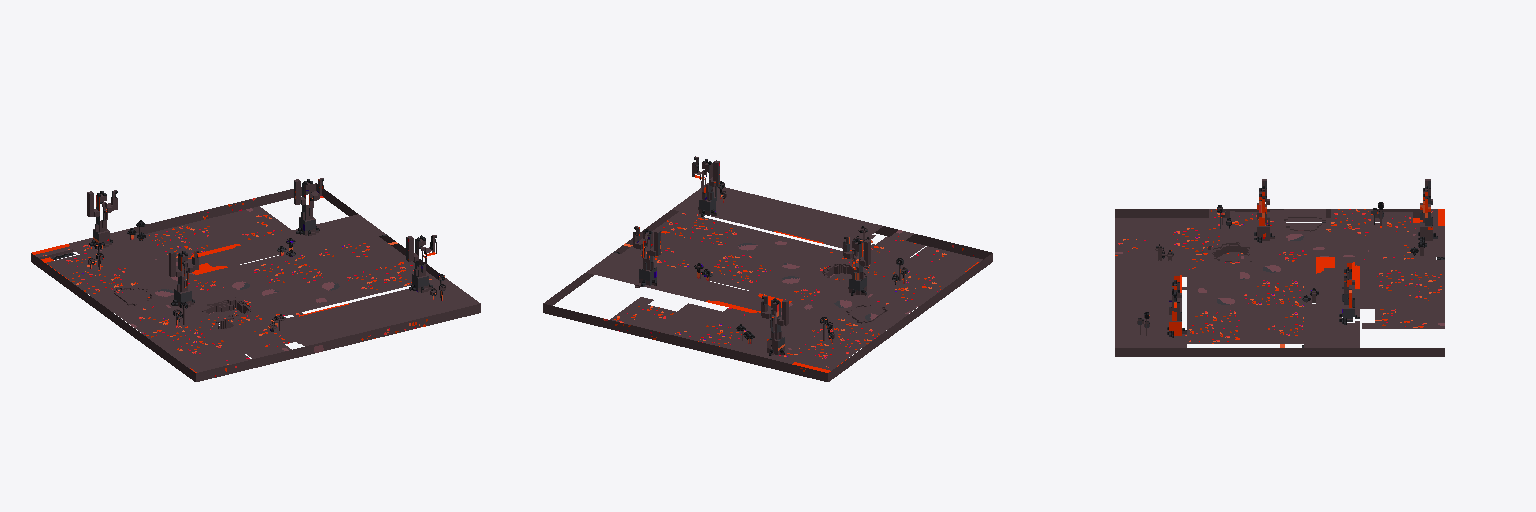
3 views of the same model, side by side, from view 1: azimuth 30°, elevation 25°; view 2: azimuth 150°, elevation 25°; view 3: azimuth 270°, elevation 25° (orthographic).
Parts seen in each view (by area): view 1: Model; view 2: Model; view 3: Model.
Boxes of the visible parts, x1=… form: Model: x1=31, y1=178, x2=480, y2=381; Model: x1=543, y1=156, x2=992, y2=381; Model: x1=1115, y1=179, x2=1444, y2=356.
Bounding box in the file's own units: 32 × 6.75 × 32.
Materials: 1 (1 with a texture image).